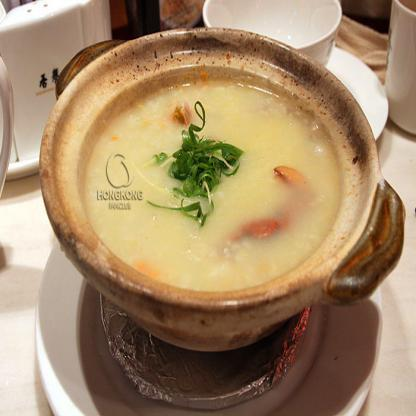Joke: (77, 52, 361, 328)
